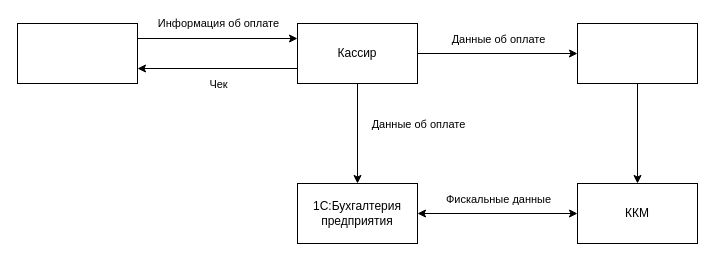
This 715x261 diagram has some shape labels left out. Here are the shapes that lost their labels. From the top down, the centre of each, then its label:
At (77,53): "Пациент".
At (637,53): "Excel-файл учета платежей".
